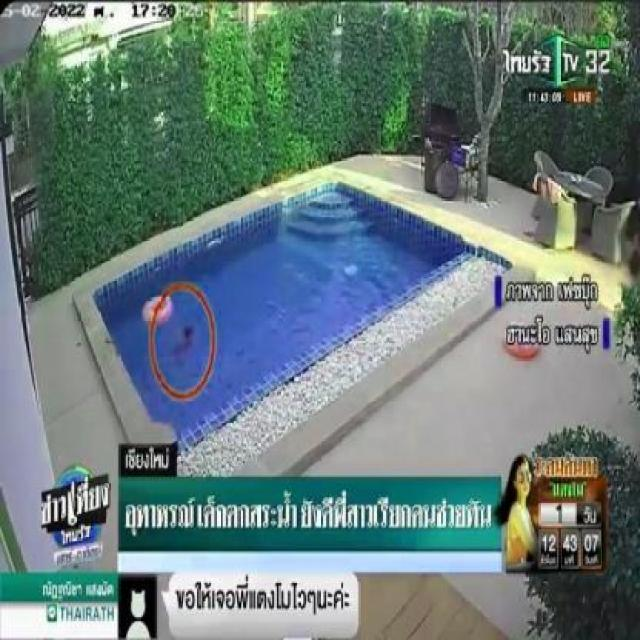drowning: (164, 317, 201, 375)
